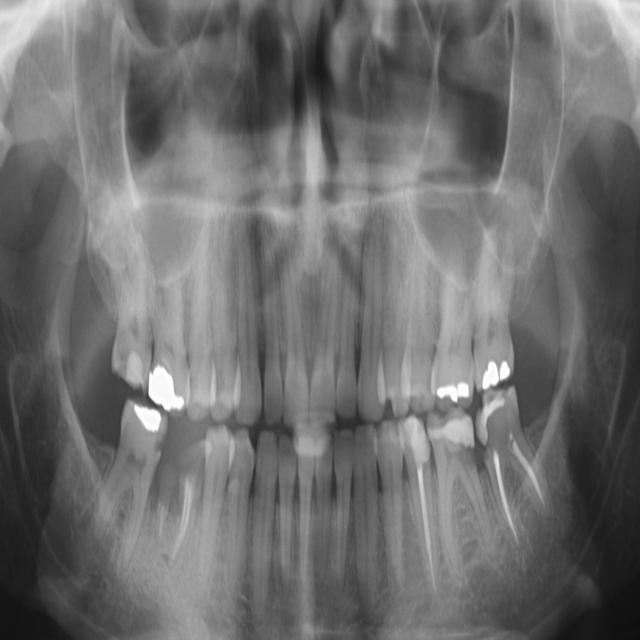dolgu: (146, 360, 188, 410), (131, 400, 168, 441), (479, 353, 515, 385), (435, 376, 475, 404), (123, 349, 148, 385)
kanal-tedavisi: (477, 439, 562, 550), (405, 453, 443, 580), (162, 490, 198, 576)
kirik: (160, 417, 218, 505), (479, 393, 535, 468)
